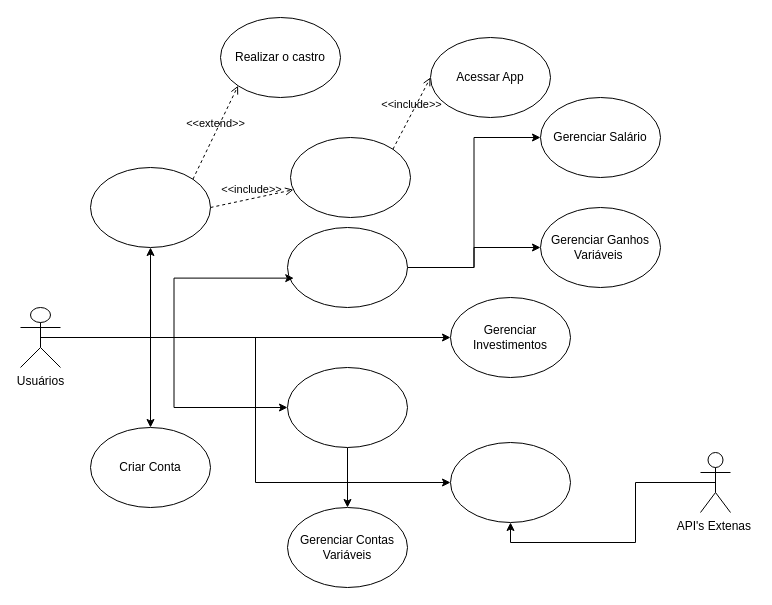
Image size: 772x605. Some labels were removed from this diagram. Each missing label, with the centre of its shape:
Fazer Login: the point at 150,207
Gerenciar Contas Fixas: the point at 347,407
Gerenciar Saldo: the point at 347,267
Recomendação de Investimento: the point at 510,482
Verificar Conta: the point at 350,177
